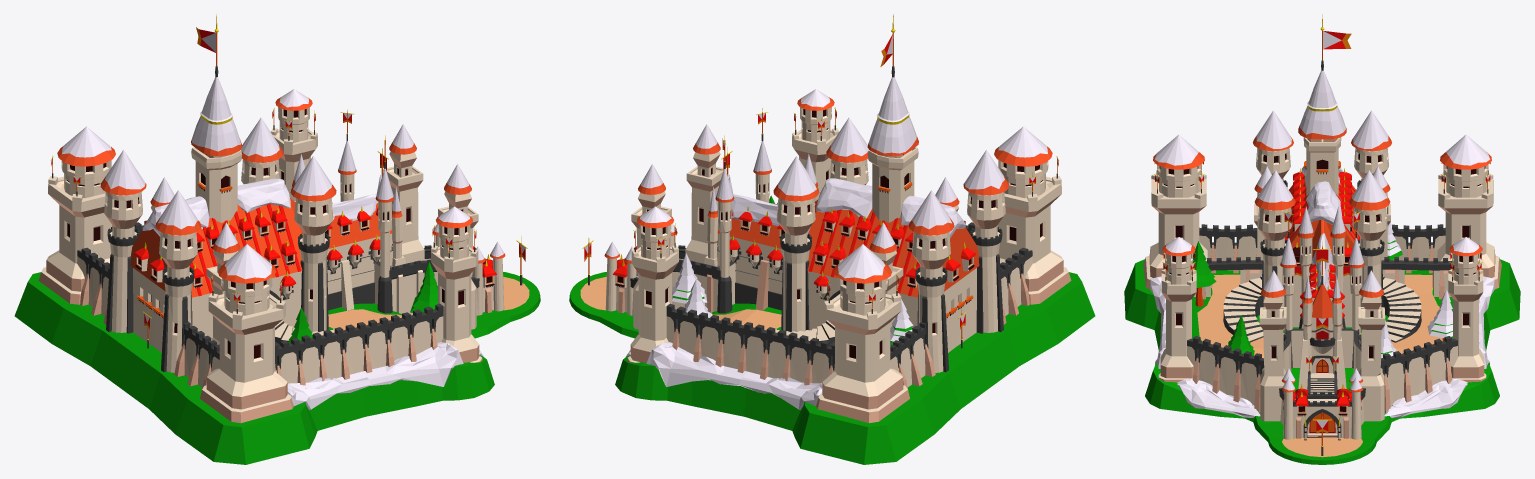
The model's file is castle.glb.
3 views of the same model, side by side, from view 1: azimuth 30°, elevation 25°; view 2: azimuth 150°, elevation 25°; view 3: azimuth 270°, elevation 25° (orthographic). The views are drawn at different scales.
Parts seen in each view (by area): view 1: Castle_Medieval_0; view 2: Castle_Medieval_0; view 3: Castle_Medieval_0.
Boxes of the visible parts, box(x1,y1,x2,y2) form: Castle_Medieval_0: box(14, 14, 540, 464); Castle_Medieval_0: box(569, 14, 1095, 464); Castle_Medieval_0: box(1124, 14, 1520, 464).
Size of the model in its own units: 38 by 30.32 by 34.79.
1 material, 1 textured.
